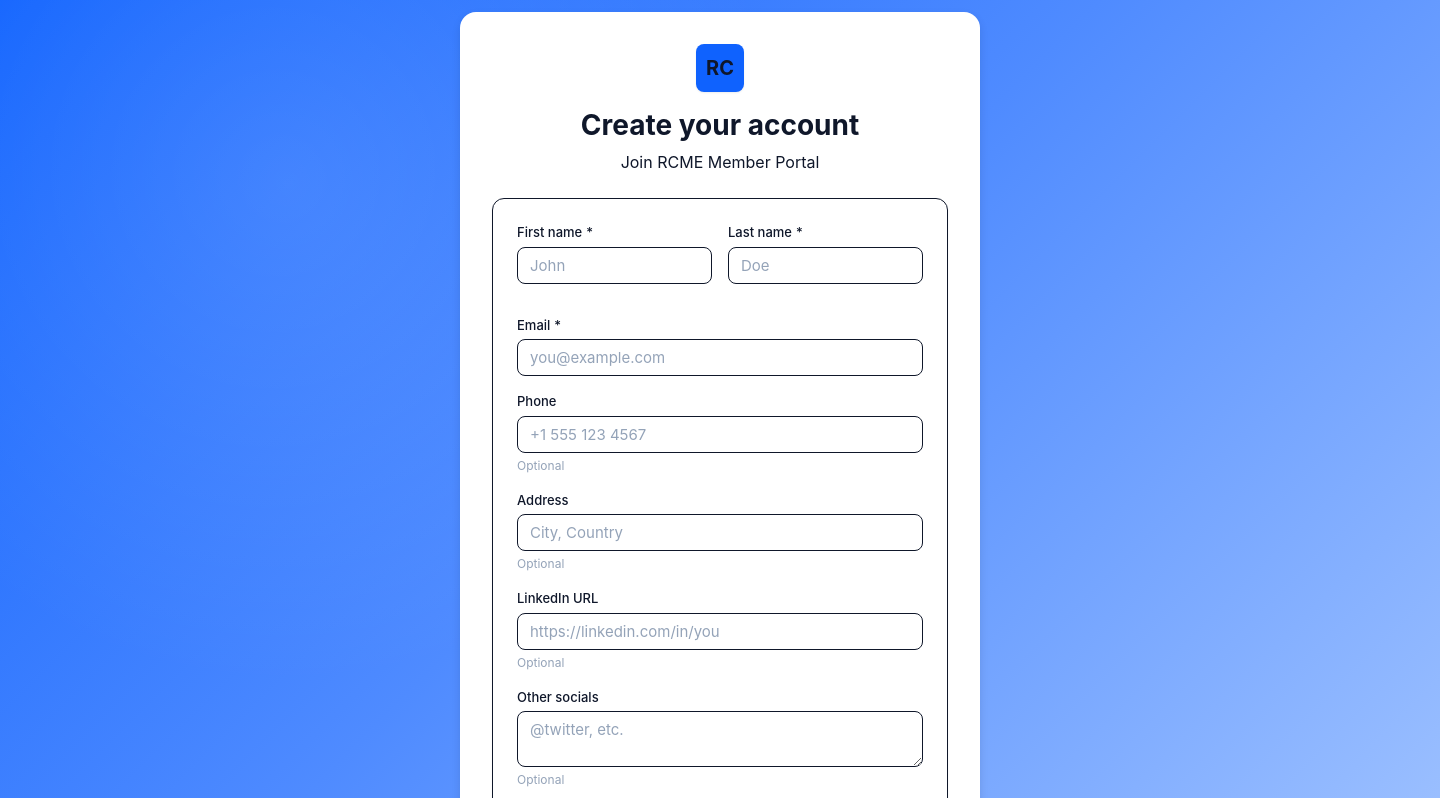
Test: RegisterPage › submits and shows success state
// Fill required fields only, don't fill LinkedIn
Type "user@example.com" into the field with placeholder "you@example.com".
click(720, 358); type("user@example.com")  # box [517, 339, 923, 376]
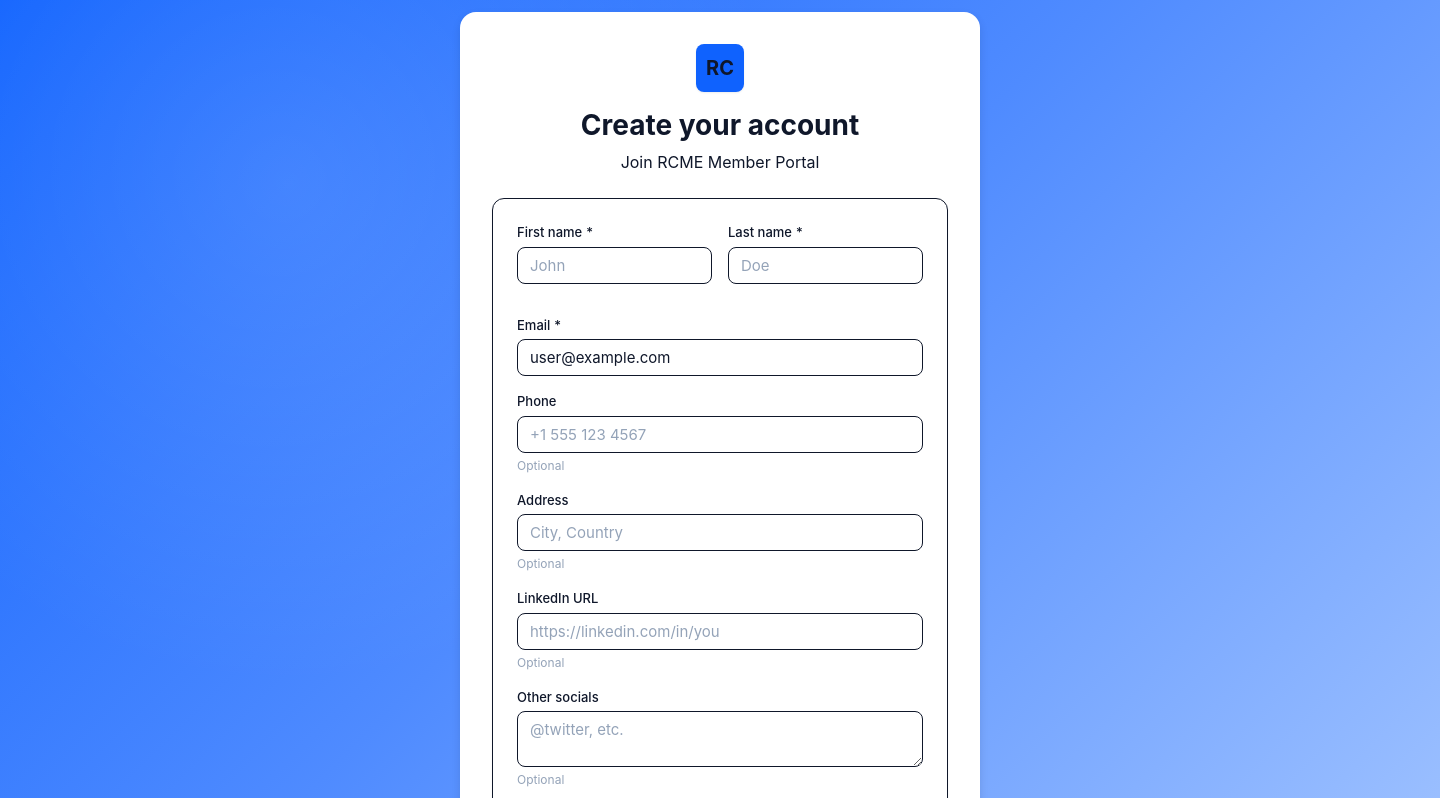
Type "Ann" into the field with placeholder "John".
click(614, 265); type("Ann")  # box [517, 246, 712, 284]
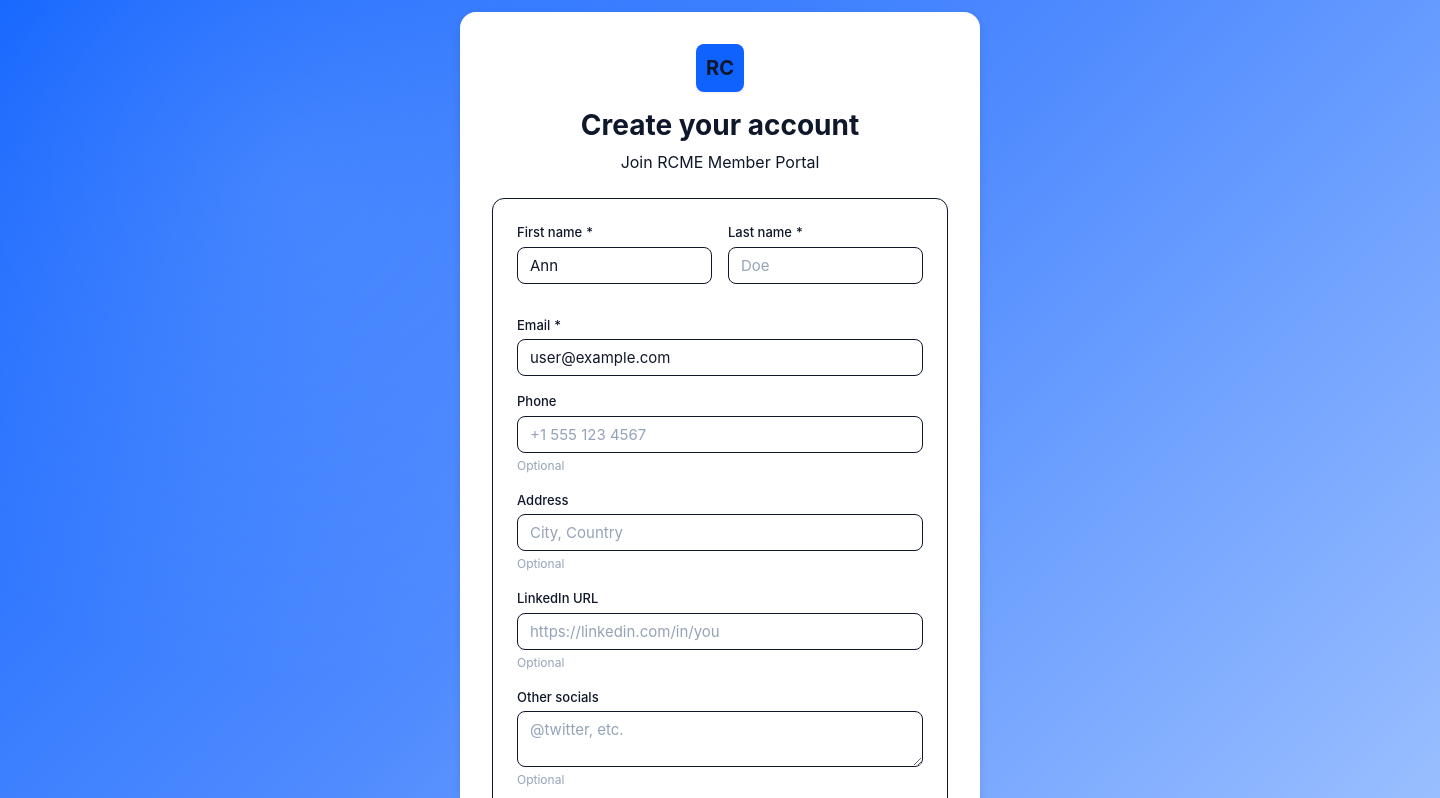
Type "Lee" into the field with placeholder "Doe".
click(826, 265); type("Lee")  # box [728, 246, 923, 284]
(page scrolled)
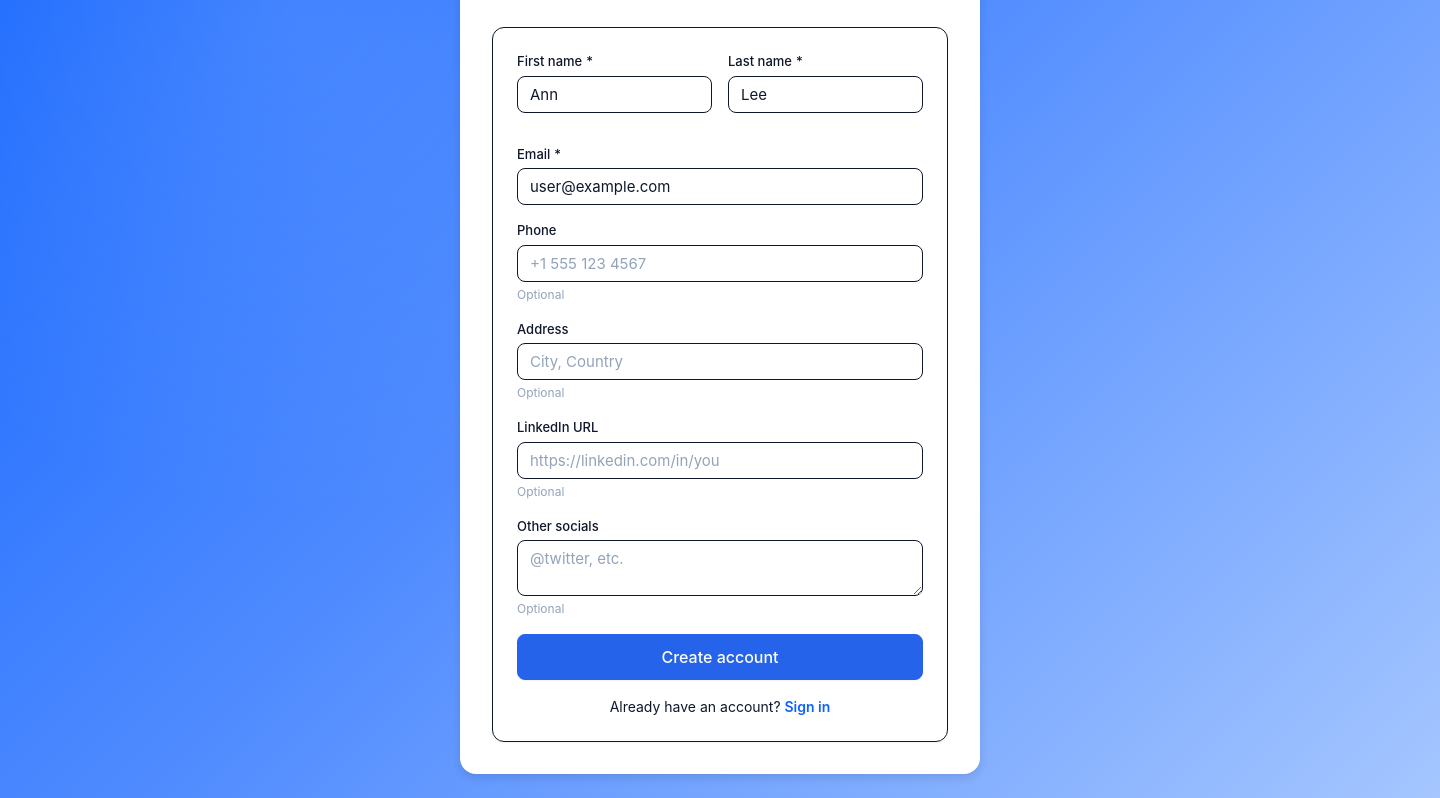
Click the button "Create account".
click(720, 657)  # box [517, 634, 923, 680]
(page scrolled)
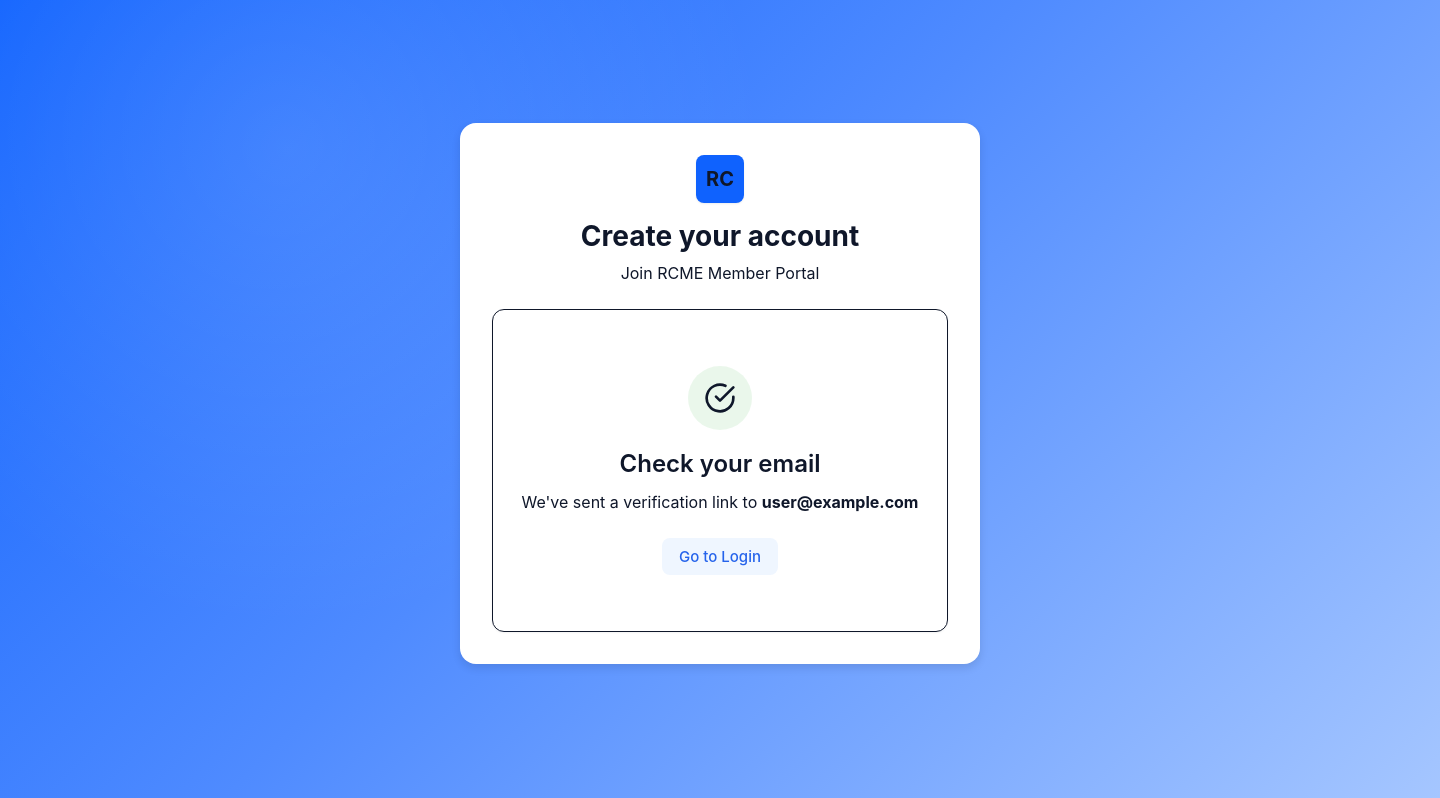
expect the heading "Check your email" is shown: met, box [620, 448, 820, 478]
